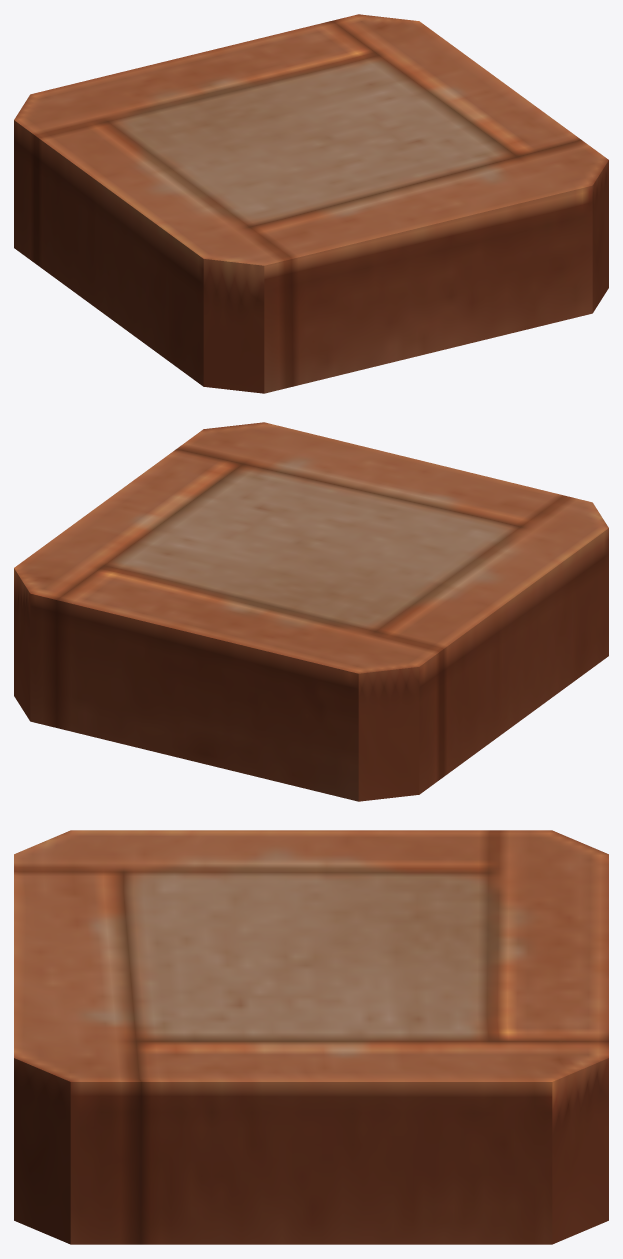
The model's file is GHmG_3_02.FBX.
3 renders of one model, top to bottom at view 1: azimuth 30°, elevation 25°; view 2: azimuth 150°, elevation 25°; view 3: azimuth 270°, elevation 25°, orthographic. The views are drawn at different scales.
Visible parts, largest first — view 1: Box670; view 2: Box670; view 3: Box670.
Part boxes in pixels (bbox=[...]): Box670: bbox=[14, 14, 608, 393]; Box670: bbox=[14, 422, 608, 801]; Box670: bbox=[14, 830, 608, 1244].
Bounding box in the file's own units: 0.8816 × 0.2659 × 0.8816.
